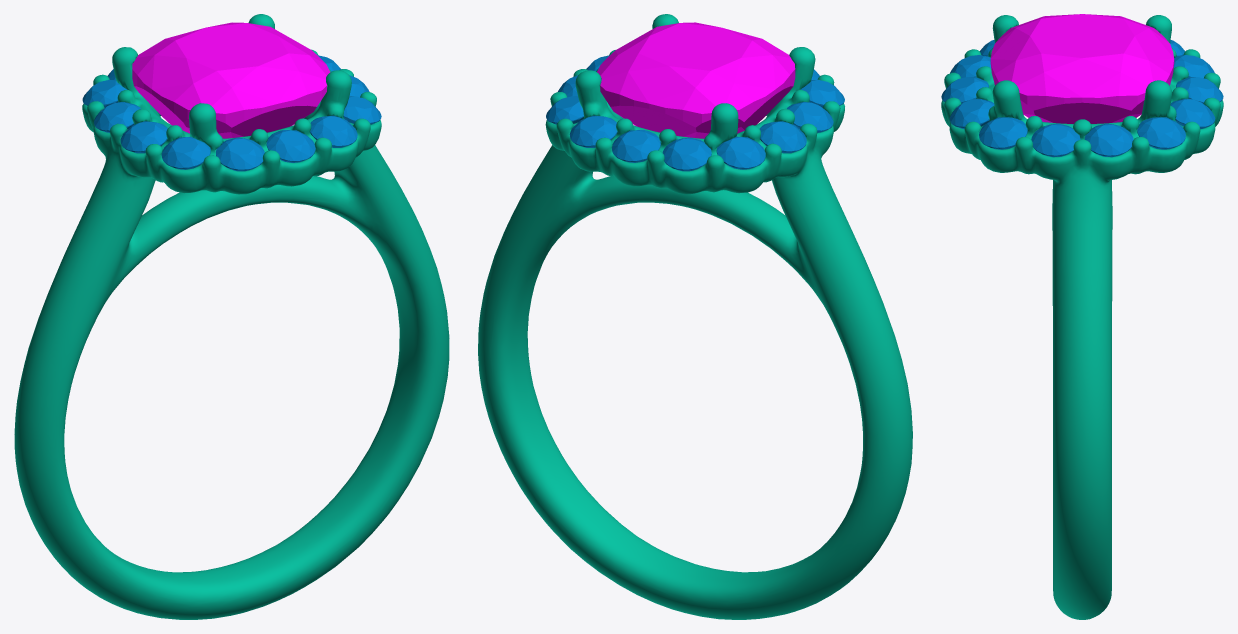
The model's file is BE1BD12R2_CU_200ct_RENDER.glb.
3 views of the same model, side by side, from view 1: azimuth 30°, elevation 25°; view 2: azimuth 150°, elevation 25°; view 3: azimuth 270°, elevation 25° (orthographic).
Parts seen in each view (by area): view 1: Metal 01, CS_Diamond_Cushion, Diamond_Round_Gem_HD.002, Diamond_Round_Gem_HD.009, Diamond_Round_Gem_HD.008, Diamond_Round_Gem_HD, Diamond_Round_Gem_HD.010, Diamond_Round_Gem_HD.011, Diamond_Round_Gem_HD.007, Diamond_Round_Gem_HD.012; view 2: Metal 01, CS_Diamond_Cushion, Diamond_Round_Gem_HD.003, Diamond_Round_Gem_HD.012, Diamond_Round_Gem_HD.013, Diamond_Round_Gem_HD.001, Diamond_Round_Gem_HD.011, Diamond_Round_Gem_HD.010, Diamond_Round_Gem_HD.004, Diamond_Round_Gem_HD.009; view 3: Metal 01, CS_Diamond_Cushion, Diamond_Round_Gem_HD.006, Diamond_Round_Gem_HD.005, Diamond_Round_Gem_HD.007, Diamond_Round_Gem_HD.004, Diamond_Round_Gem_HD, Diamond_Round_Gem_HD.001, Diamond_Round_Gem_HD.008, Diamond_Round_Gem_HD.013, Diamond_Round_Gem_HD.002, Diamond_Round_Gem_HD.003.
Part boxes in pixels (x1,y1,x2,y2): Metal 01: (14,14,449,619); CS_Diamond_Cushion: (132,22,330,138); Diamond_Round_Gem_HD.002: (216,137,264,171); Diamond_Round_Gem_HD.009: (161,136,210,169); Diamond_Round_Gem_HD.008: (266,130,315,162); Diamond_Round_Gem_HD: (310,115,357,147); Diamond_Round_Gem_HD.010: (120,121,167,153); Diamond_Round_Gem_HD.011: (94,102,140,132); Diamond_Round_Gem_HD.007: (343,96,381,124); Diamond_Round_Gem_HD.012: (82,79,127,107); Metal 01: (478,14,912,619); CS_Diamond_Cushion: (597,22,795,138); Diamond_Round_Gem_HD.003: (662,137,711,171); Diamond_Round_Gem_HD.012: (716,136,765,169); Diamond_Round_Gem_HD.013: (612,130,660,162); Diamond_Round_Gem_HD.001: (569,115,617,147); Diamond_Round_Gem_HD.011: (759,121,806,153); Diamond_Round_Gem_HD.010: (786,102,833,132); Diamond_Round_Gem_HD.004: (546,96,583,124); Diamond_Round_Gem_HD.009: (800,79,844,107); Metal 01: (941,15,1223,619); CS_Diamond_Cushion: (990,14,1174,124); Diamond_Round_Gem_HD.006: (1031,123,1080,157); Diamond_Round_Gem_HD.005: (1084,123,1133,157); Diamond_Round_Gem_HD.007: (979,117,1027,149); Diamond_Round_Gem_HD.004: (1137,117,1185,149); Diamond_Round_Gem_HD: (949,98,994,128); Diamond_Round_Gem_HD.001: (1170,98,1215,128); Diamond_Round_Gem_HD.008: (941,77,988,103); Diamond_Round_Gem_HD.013: (1176,77,1223,103); Diamond_Round_Gem_HD.002: (950,55,991,78); Diamond_Round_Gem_HD.003: (1173,55,1214,78).
Bounding box in the file's own units: 19.98 × 25.28 × 11.55.
